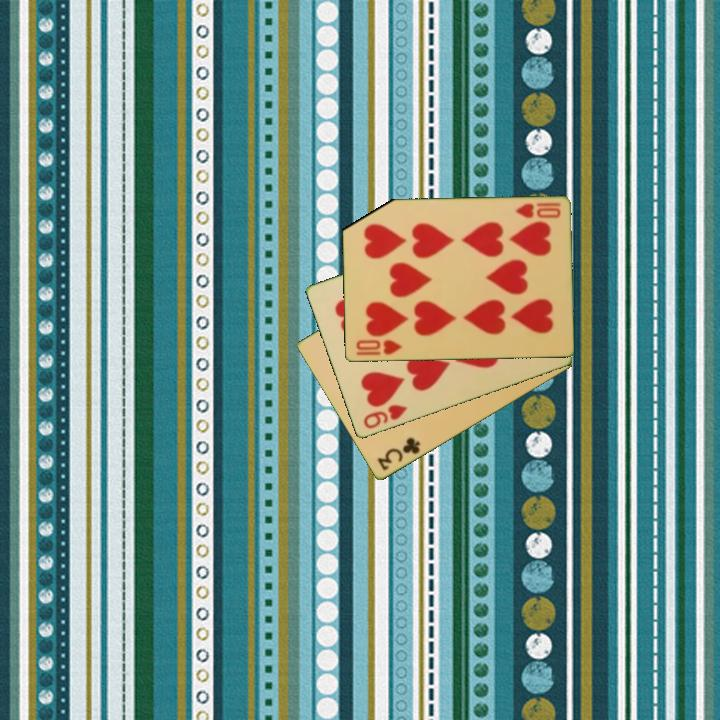10h: (512, 199, 563, 221), (352, 337, 404, 358)
3c: (373, 434, 423, 474)
9h: (360, 401, 410, 432)
